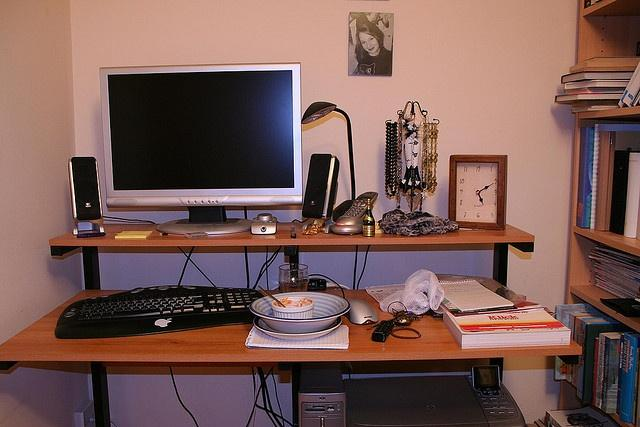AIO PC-Monitor-TV: (97, 61, 304, 207)
Meja: (0, 285, 583, 364)
Rak: (557, 0, 639, 424)
